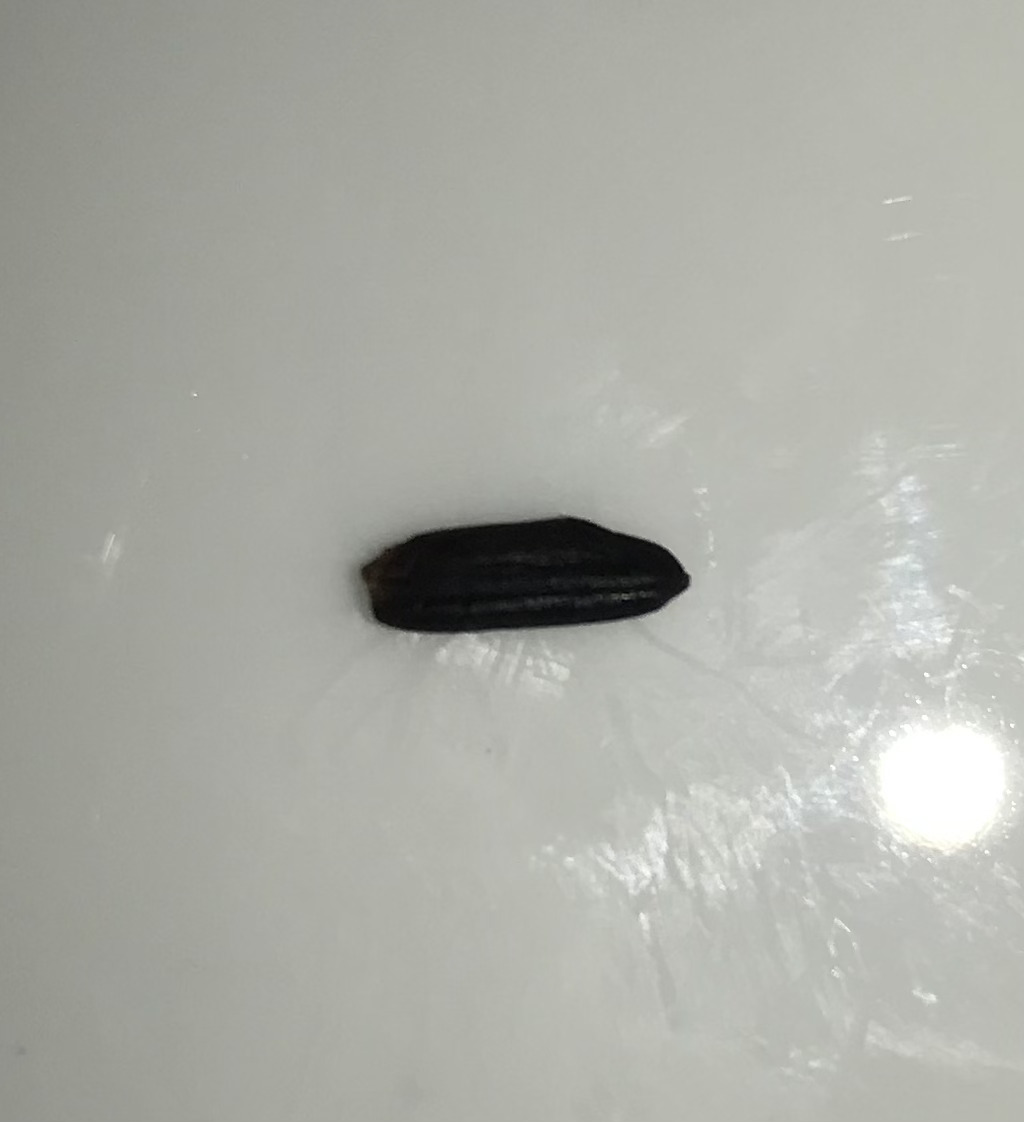Gao lut: (355, 515, 697, 632)
